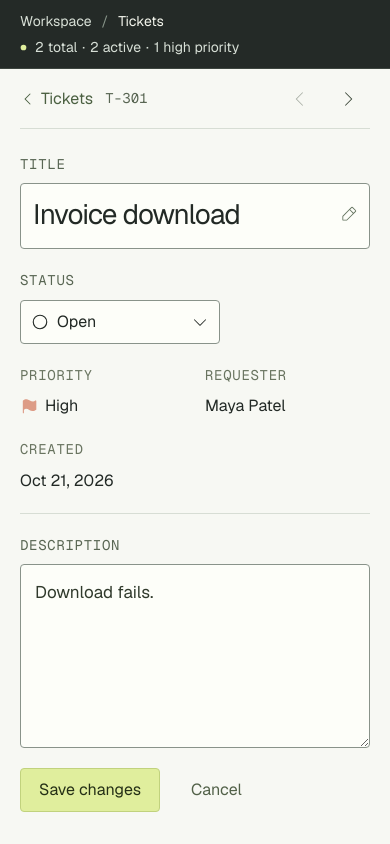
Test: ticket workspace › points the mobile skip link at the visible pane
Check: the text box labelled "Title" is shown, box [20,183,370,249]
Click the button with aria-label "Back to tickets".
click(57, 98)  # box [20,76,93,120]
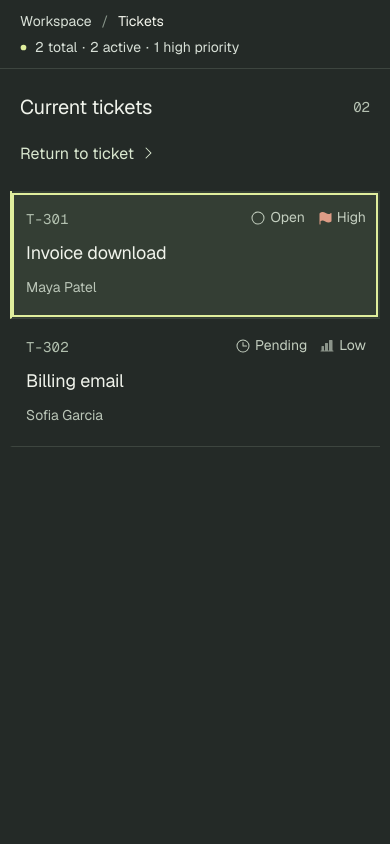
Check: the element "Current tickets" is shown
